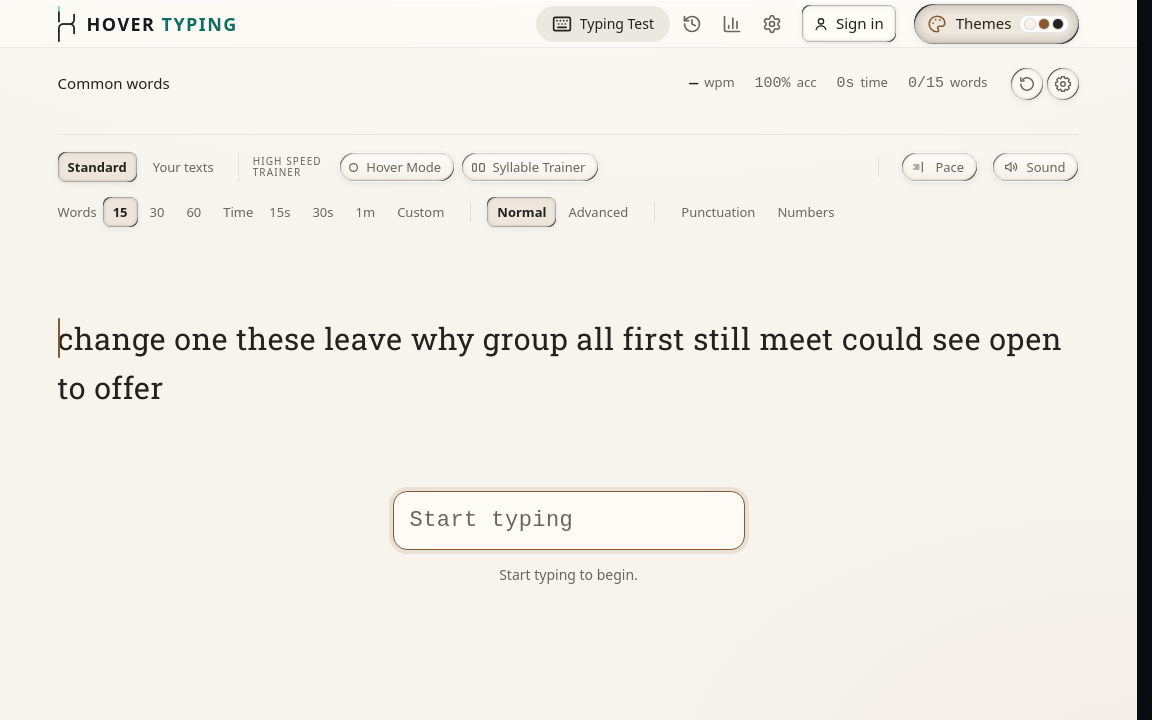
Scenario: the theme button › is named, and opens every theme
What coordinates should you click on to do the following:
click the button "Themes"
I would click on:
 (997, 24)
Its box is [914, 4, 1080, 44].
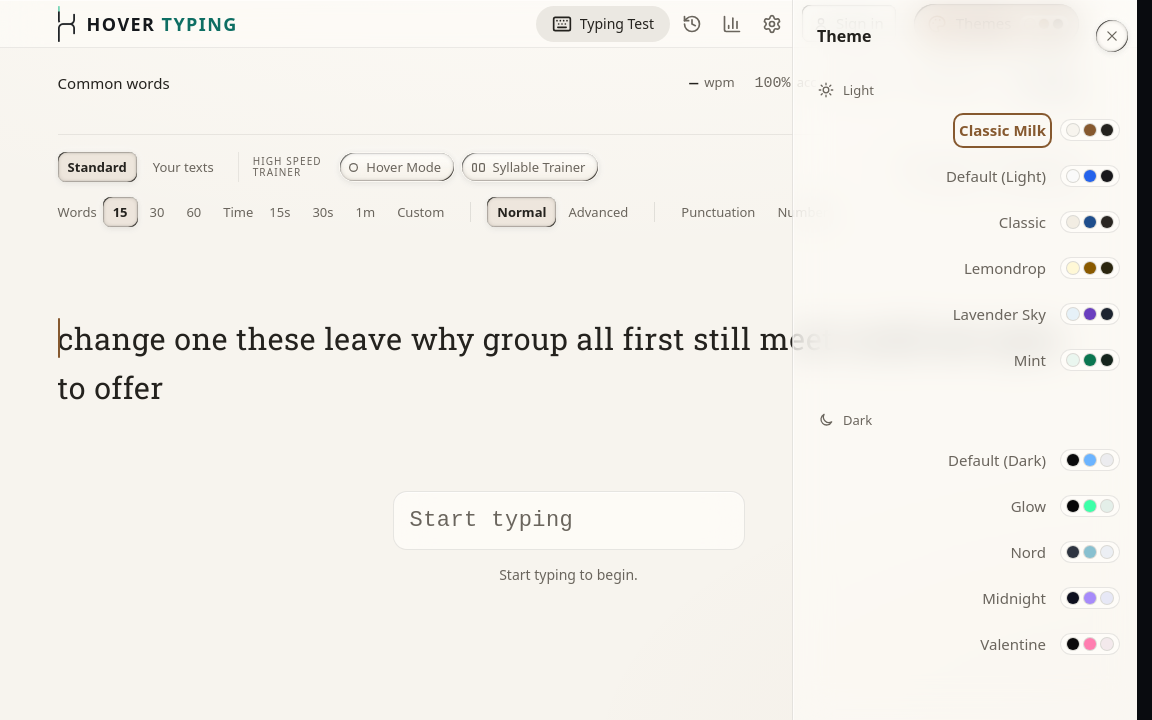
expect the radio button labelled "Lavender Sky" is shown: met, box [953, 303, 1120, 325]
